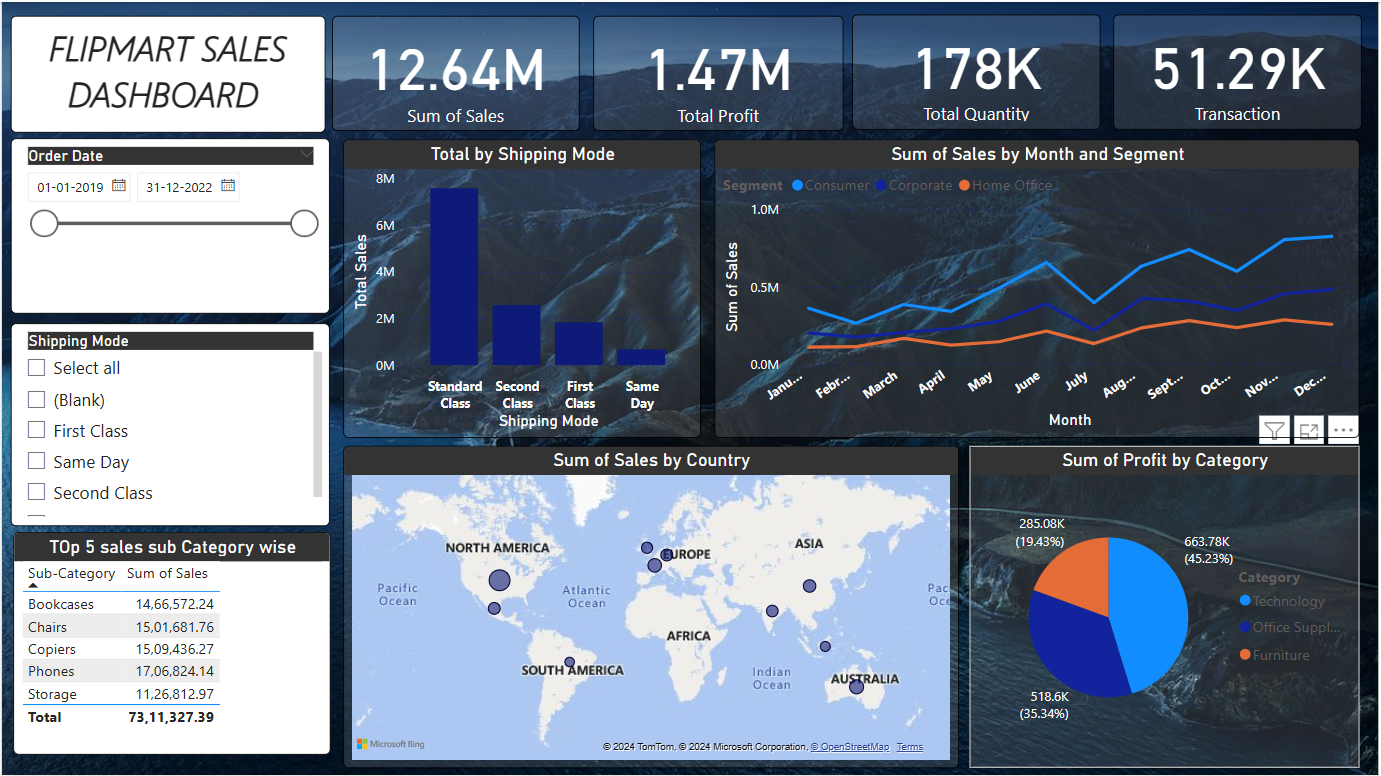

The dashboard page shown, as its layout file describes it:
{"tool":"powerbi","page":{"name":"Page 1","canvas":[1280,720],"ordinal":0},"visuals":[{"type":"card","fields":{"Values":["CountNonNull(Sales.Order ID)"]},"box":[1033.8,11.2,231.2,107.5],"z":0},{"type":"card","fields":{"Values":["Sum(Sales.Quantity)"]},"box":[791.2,11.2,231.2,107.5],"z":1000},{"type":"card","fields":{"Values":["Sum(Sales.Profit)"]},"box":[550,12.5,232.5,107.5],"z":2000},{"type":"card","fields":{"Values":["Sum(Sales.Sales)"]},"box":[307.5,12.5,230,107.5],"z":3000},{"type":"clusteredColumnChart","title":"Total by Shipping Mode","fields":{"Y":["Sum(Sales.Sales)"],"Category":["Sales.Shipping Mode"]},"box":[317.5,127.5,332.5,277.5],"z":4000},{"type":"pieChart","fields":{"Category":["Sales.Category"],"Y":["Sum(Sales.Profit)"]},"box":[900,412.5,362.5,300],"z":5000},{"type":"lineChart","fields":{"Y":["Sum(Sales.Sales)"],"Category":["Sales.Order Date.Variation.Date Hierarchy.Month"],"Series":["Sales.Segment"]},"box":[662.5,127.5,600,277.5],"z":6000},{"type":"map","fields":{"Size":["Sum(Sales.Sales)"],"Category":["Sales.Country"]},"box":[317.5,412.5,572.5,300],"z":7000},{"type":"tableEx","title":"TOp 5 sales sub Category wise","fields":{"Values":["Sales.Sub-Category","Sum(Sales.Sales)"]},"box":[10,492.5,295,207.5],"z":8000},{"type":"slicer","fields":{"Values":["Sales.Shipping Mode"]},"box":[8.6,298.6,297.1,188.6],"z":9000},{"type":"slicer","fields":{"Values":["Sales.Order Date"]},"box":[8.6,127.1,297.1,162.9],"z":10000},{"type":"textbox","box":[8.6,12.9,292.9,108.6],"z":11000}]}

Visuals, with their boxes in screenshot pixels (x1, y1, x2, y2), scaled from the page's 1280x720 canvas onto the 1381x776 screenshot:
card - CountNonNull(Sales.Order ID): 1115:12:1365:128
card - Sum(Sales.Quantity): 854:12:1103:128
card - Sum(Sales.Profit): 593:13:844:129
card - Sum(Sales.Sales): 332:13:580:129
"Total by Shipping Mode" clusteredColumnChart: 343:137:701:436
pieChart - Sales.Category x Sum(Sales.Profit): 971:445:1362:768
lineChart - Sum(Sales.Sales) x Sales.Order Date.Variation.Date Hierarchy.Month: 715:137:1362:436
map - Sum(Sales.Sales) x Sales.Country: 343:445:960:768
"TOp 5 sales sub Category wise" tableEx: 11:531:329:754
slicer - Sales.Shipping Mode: 9:322:330:525
slicer - Sales.Order Date: 9:137:330:313
textbox: 9:14:325:131
